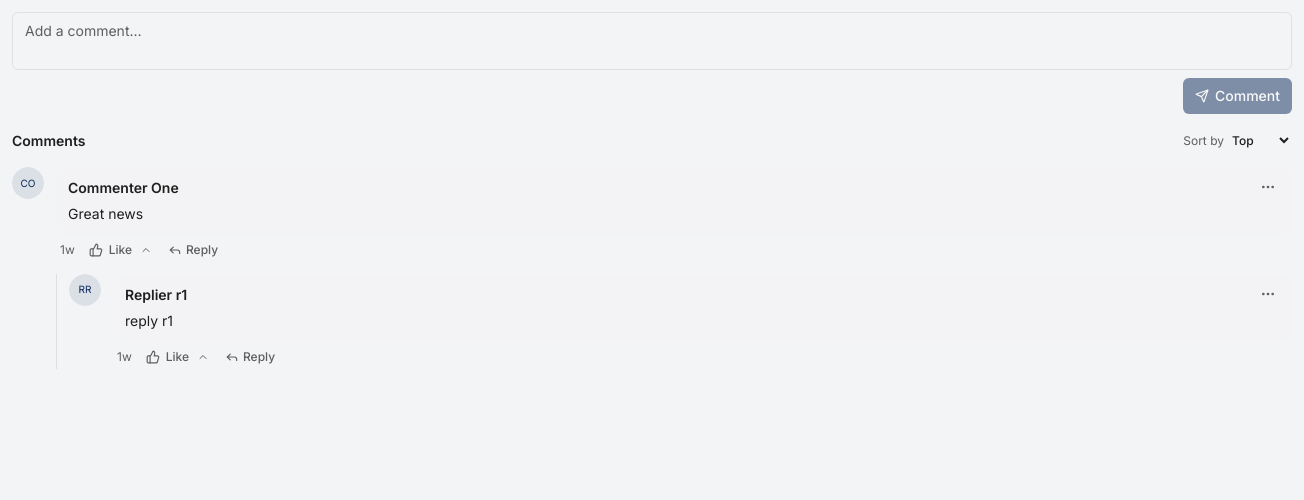
Test: CommentThread › replying to a reply attaches to the top-level comment and pre-fills the mention
This screenshot has width=1304, height=500.
Expected: the text "reply r1" is shown, 125,312 -> 173,329
Click the button with aria-label "Reply to Replier r1": (250, 356) 219,344 -> 281,368
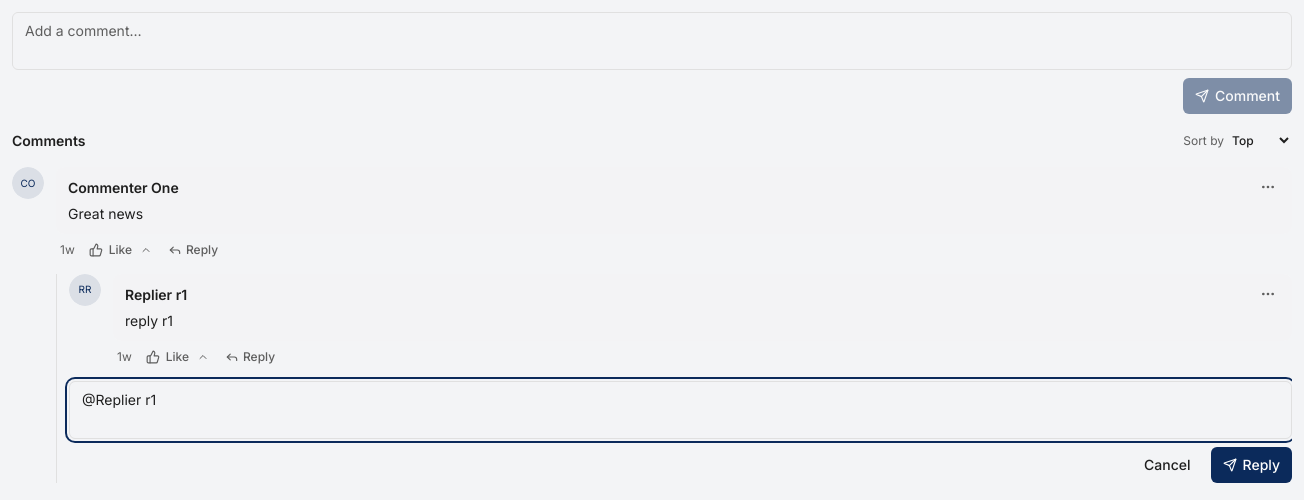
Now the dropdown named "Write a reply" holds "@Replier r1 "
In the dropdown named "Write a reply": (680, 410) 69,380 -> 1292,438, type "thanks!"
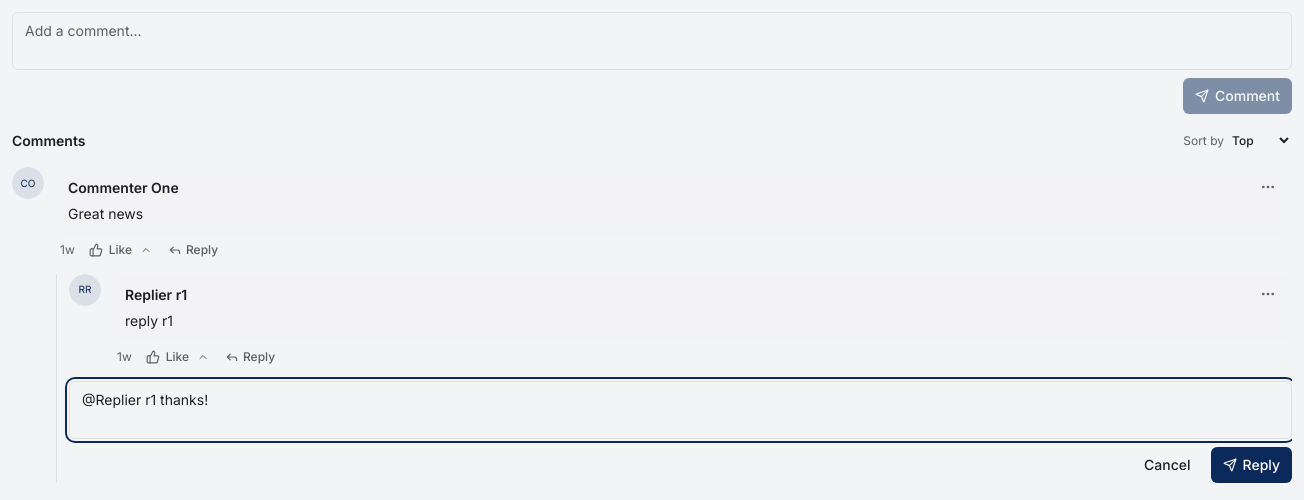
Click the 3rd button "Reply": (1251, 464) 1211,446 -> 1292,482
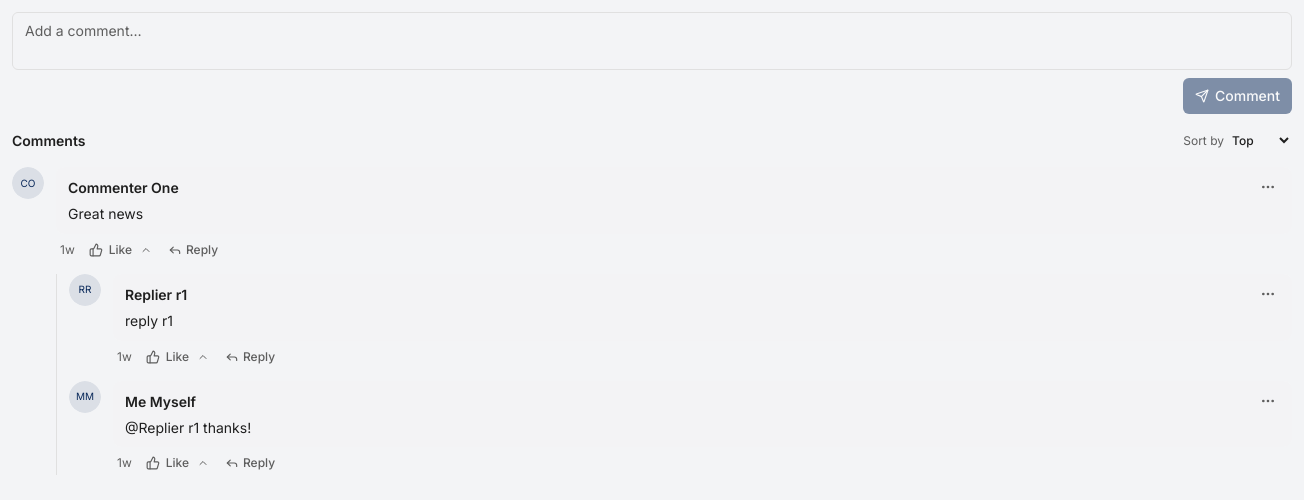
Now the text "@Replier r1 thanks!" is shown, box 125,418 -> 251,436
